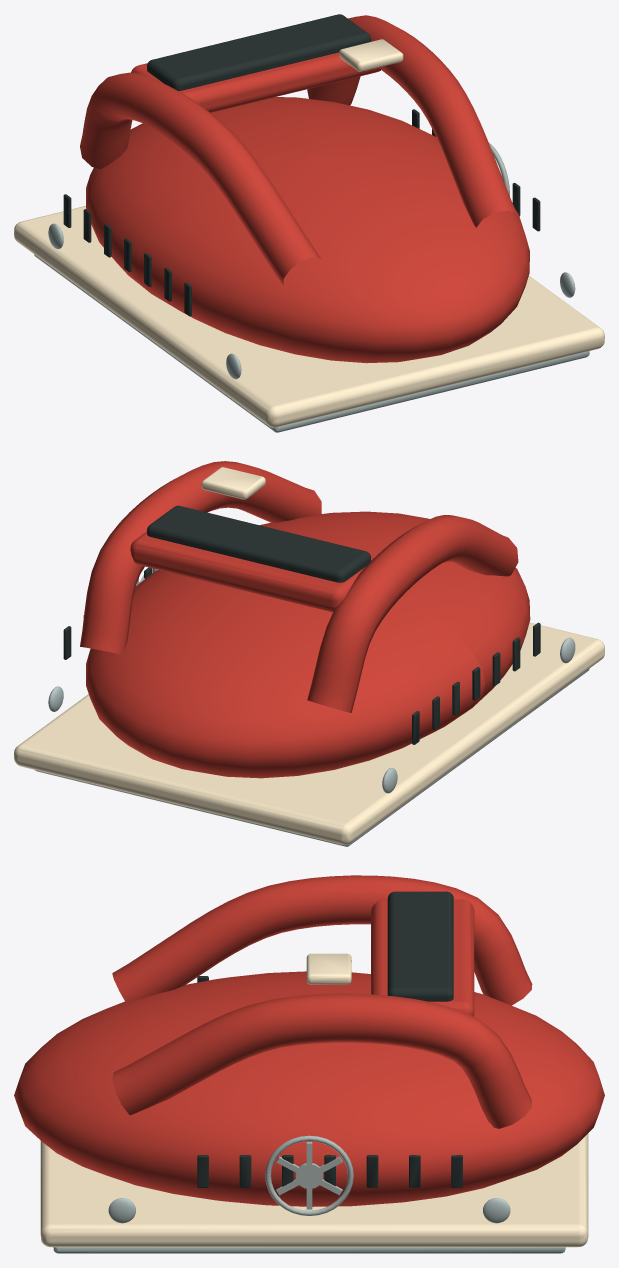
The model's file is mixer.glb.
3 views of the same model, one above another, from view 1: azimuth 30°, elevation 25°; view 2: azimuth 150°, elevation 25°; view 3: azimuth 270°, elevation 25° (orthographic). The views are drawn at different scales.
Visible parts, largest first — view 1: motor_shell, ivory, dark, steel; view 2: motor_shell, ivory, dark, steel; view 3: motor_shell, ivory, dark, steel, mechanism_pulley.
Part boxes in pixels (<box>): motor_shell: <box>80,15,529,363</box>; ivory: <box>14,39,604,427</box>; dark: <box>63,14,540,316</box>; steel: <box>34,223,589,432</box>; motor_shell: <box>80,461,530,778</box>; ivory: <box>14,467,604,845</box>; dark: <box>63,505,540,744</box>; steel: <box>35,637,589,846</box>; motor_shell: <box>14,875,604,1206</box>; ivory: <box>40,953,588,1247</box>; dark: <box>197,891,462,1187</box>; steel: <box>53,1198,565,1253</box>; mechanism_pulley: <box>265,1135,353,1215</box>.
Bounding box in the file's own units: 0.4366 × 0.286 × 0.6.
